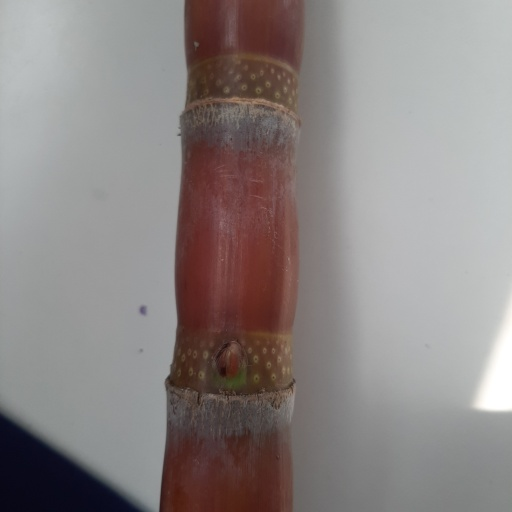Bud: (215, 340, 248, 384)
